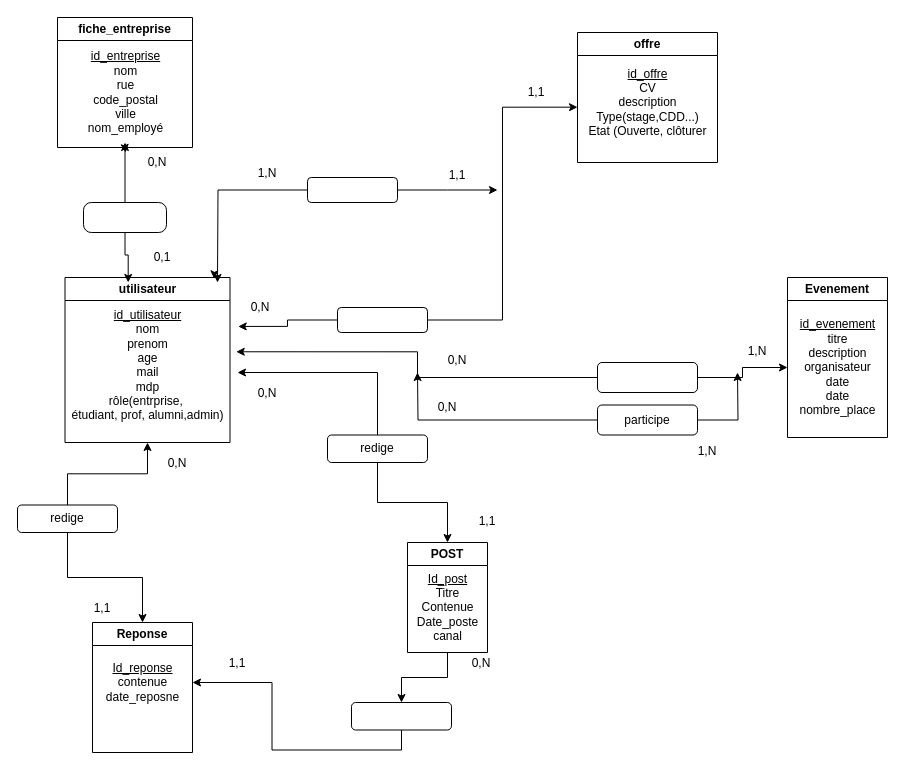
Image size: 905x776. Some labels were removed from this diagram. Each missing label, with the centre of its shape:
"concerne" goes at (401,716).
"créer" goes at (647,377).
"est liée" goes at (124,217).
"postule" goes at (352,189).
"Publier" goes at (382,319).
